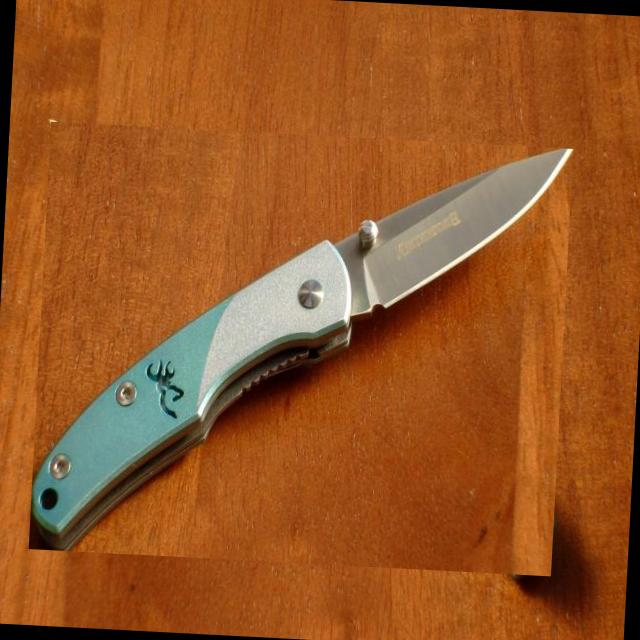Knife: (32, 150, 573, 551)
